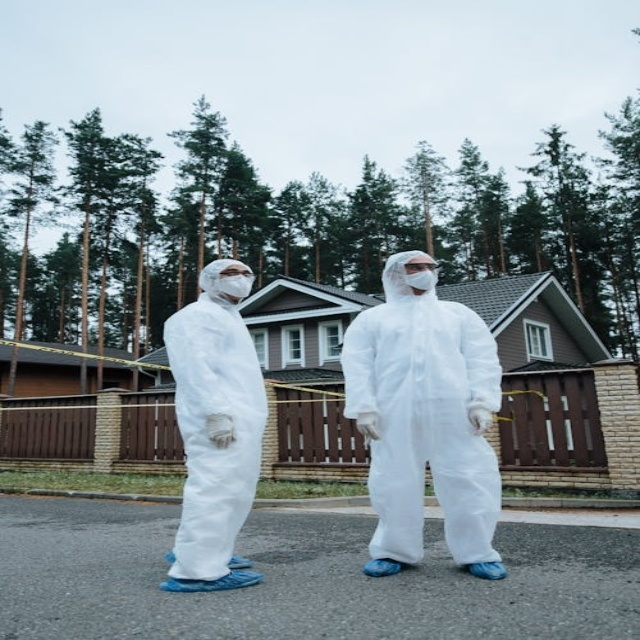Gafas: (404, 263, 439, 272), (219, 270, 254, 277)
Guantes: (204, 413, 235, 448), (355, 411, 382, 441), (469, 405, 495, 436)
Mascara: (215, 275, 253, 299), (402, 269, 438, 290)
